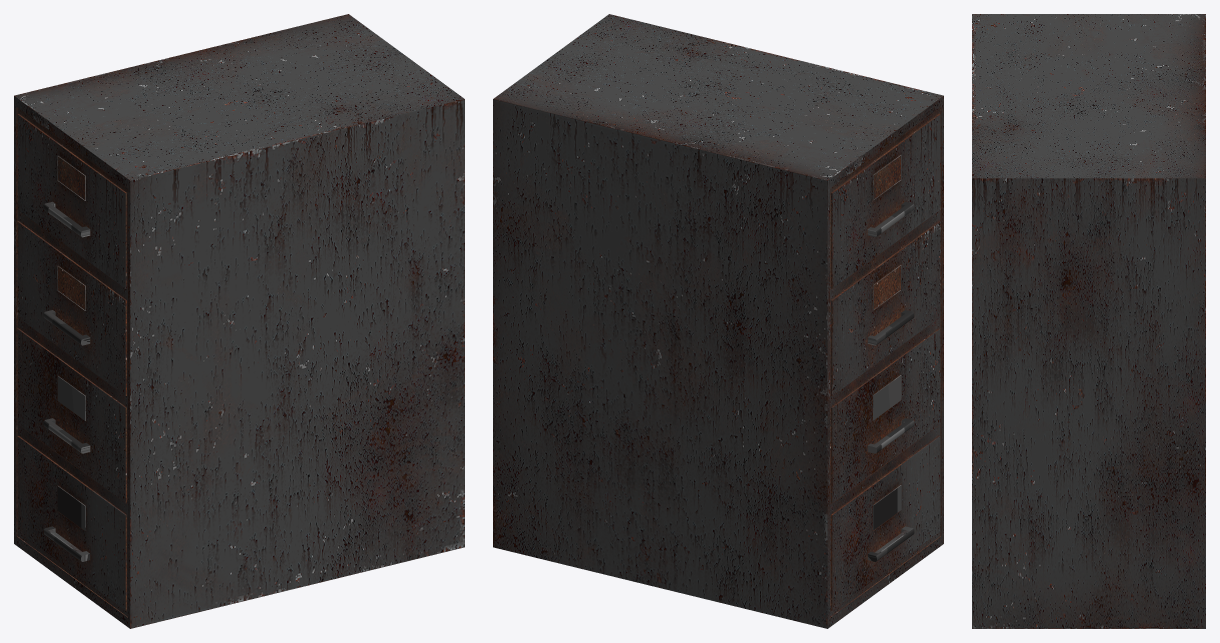
The model's file is szafka_inna1.glb.
3 views of the same model, side by side, from view 1: azimuth 30°, elevation 25°; view 2: azimuth 150°, elevation 25°; view 3: azimuth 270°, elevation 25° (orthographic).
Visible parts, largest first — view 1: Cube.049; view 2: Cube.049; view 3: Cube.049.
Boxes of the visible parts, x1,y1,x2,y2 form: Cube.049: [14, 14, 464, 628]; Cube.049: [493, 14, 943, 628]; Cube.049: [972, 14, 1205, 628].
Size of the model in its own units: 0.9395 by 1.17 by 0.549.
2 materials, 2 textured.
